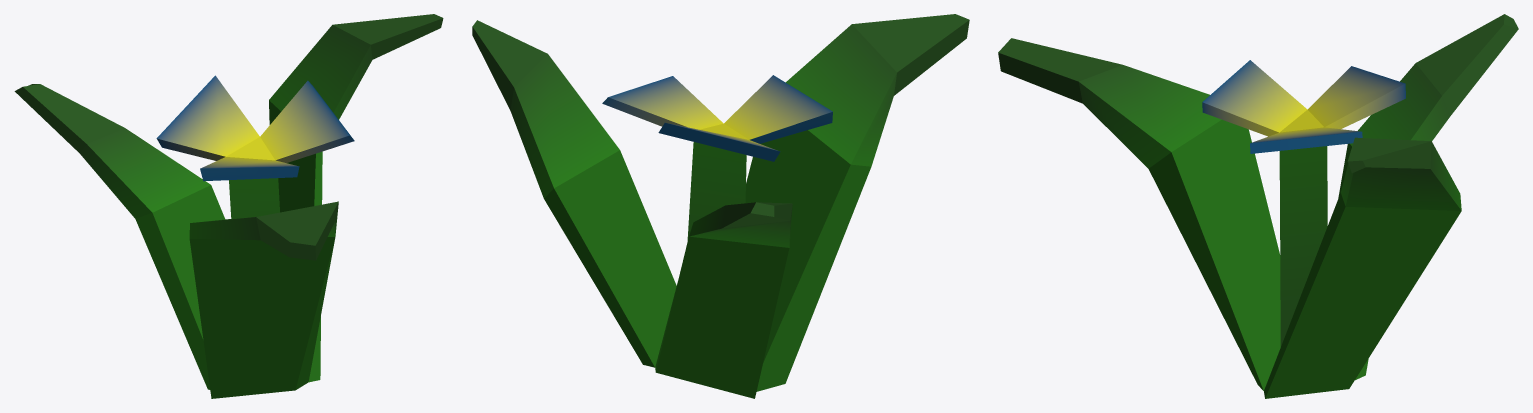
The model's file is large-fllower.fbx.
3 views of the same model, side by side, from view 1: azimuth 30°, elevation 25°; view 2: azimuth 150°, elevation 25°; view 3: azimuth 270°, elevation 25° (orthographic). The views are drawn at different scales.
Parts seen in each view (by area): view 1: LargeFlower; view 2: LargeFlower; view 3: LargeFlower.
Part boxes in pixels (<box>): LargeFlower: <box>14,14,443,398</box>; LargeFlower: <box>472,14,969,398</box>; LargeFlower: <box>998,14,1518,398</box>.
Bounding box in the file's own units: 0.318 × 0.2619 × 0.3703.
